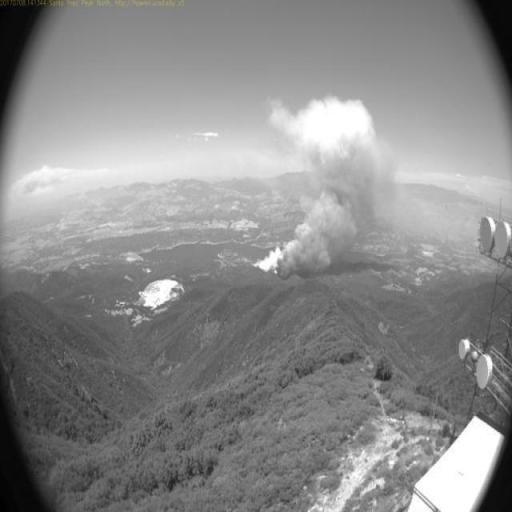smoke: (254, 96, 396, 275)
